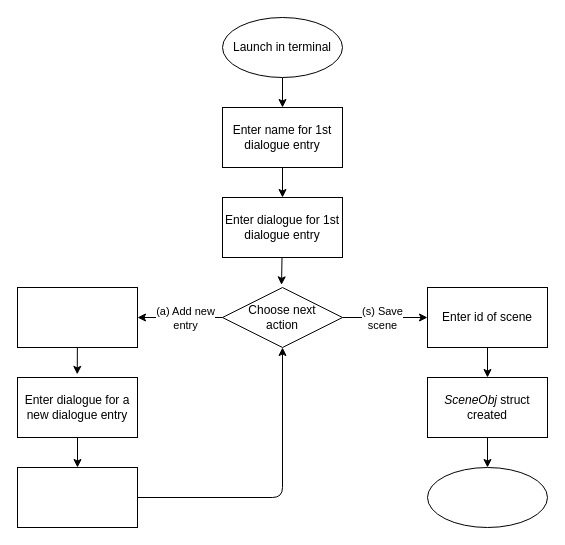
This 565x545 diagram has some shape labels left out. The centre of each missing label's shape, as x and y in pixels:
Enter name for a new dialogue entry: the point at 77,317
Newly created dialogue entry is appended to slice: the point at 77,497
scene_id.json file created in /scenes: the point at 487,497
